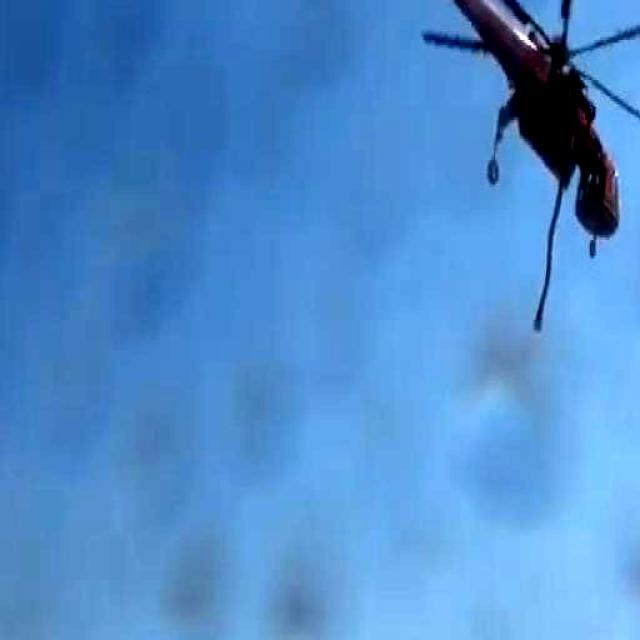drone: (395, 0, 640, 331)
